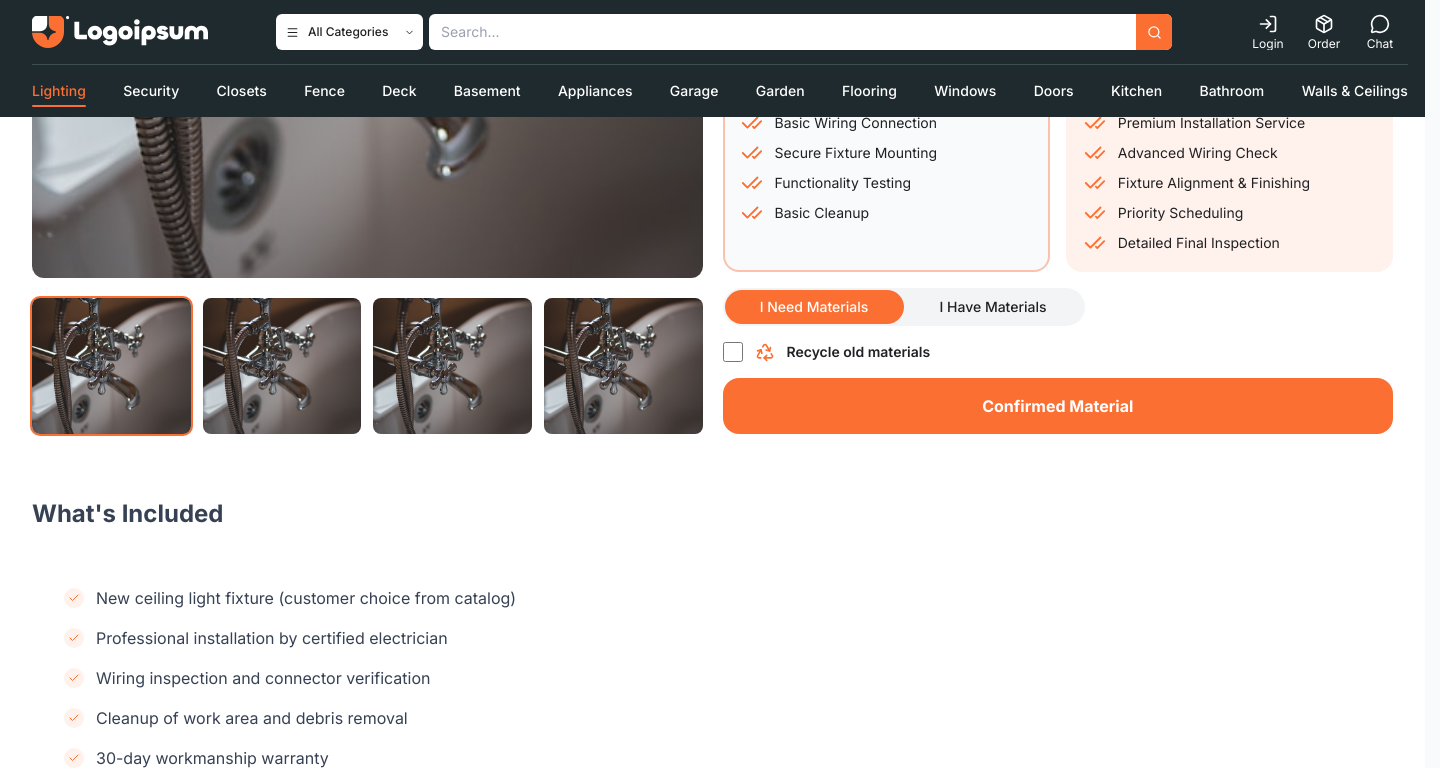
Scenario: Service details create account › opens Create Account when Manual Sign-Up is clicked after Phone / SMS
This screenshot has width=1440, height=768.
(page scrolled)
Click the button "Confirmed Material".
click(1058, 406)  # box left=722, top=378, right=1393, bottom=434
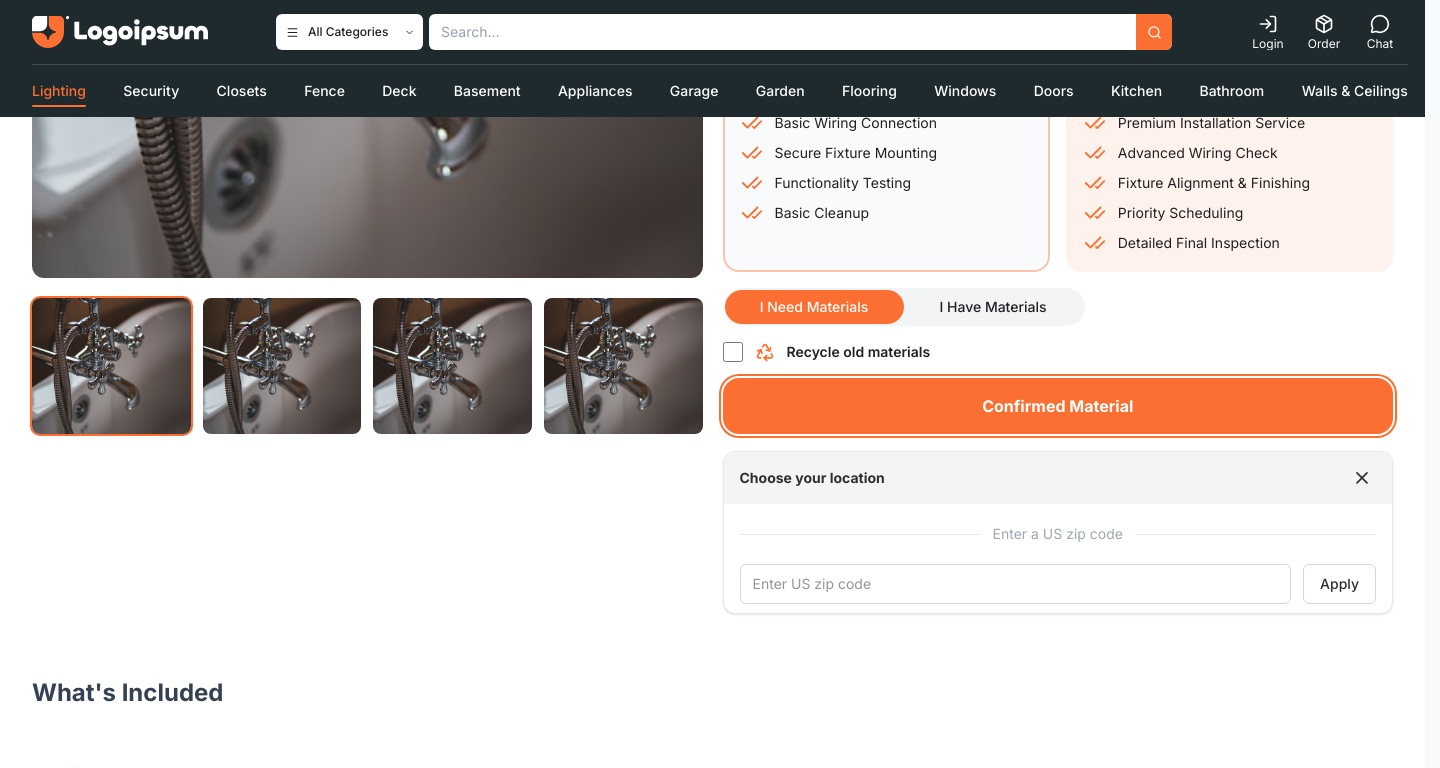
Expected: the button "Apply" is shown
Click the button "Apply".
click(1340, 584)  # box left=1303, top=564, right=1376, bottom=604
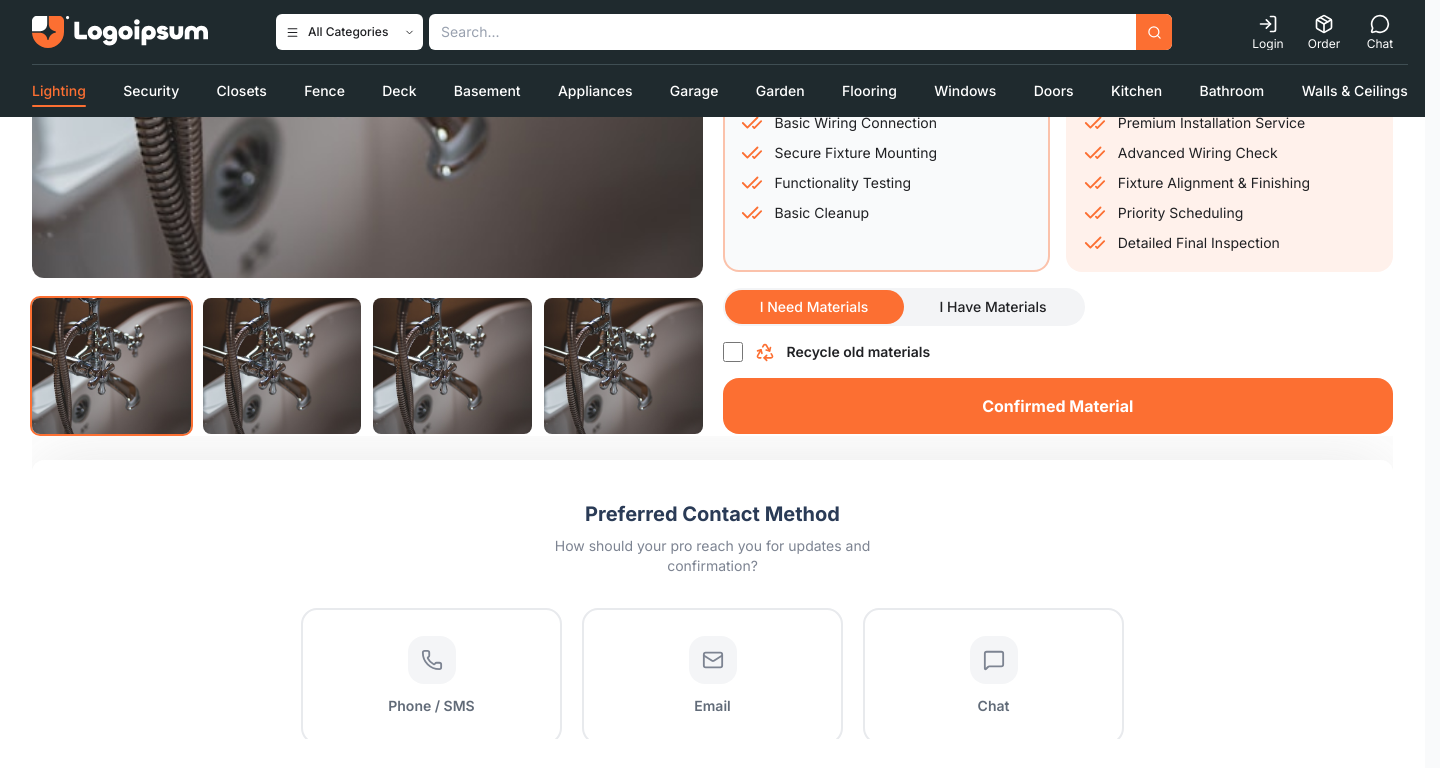
Expected: the element "Preferred Contact Method" is shown, left=32, top=460, right=1393, bottom=739
Click the radio button labelled "Phone / SMS".
click(432, 676)  # box left=301, top=608, right=562, bottom=744
(page scrolled)
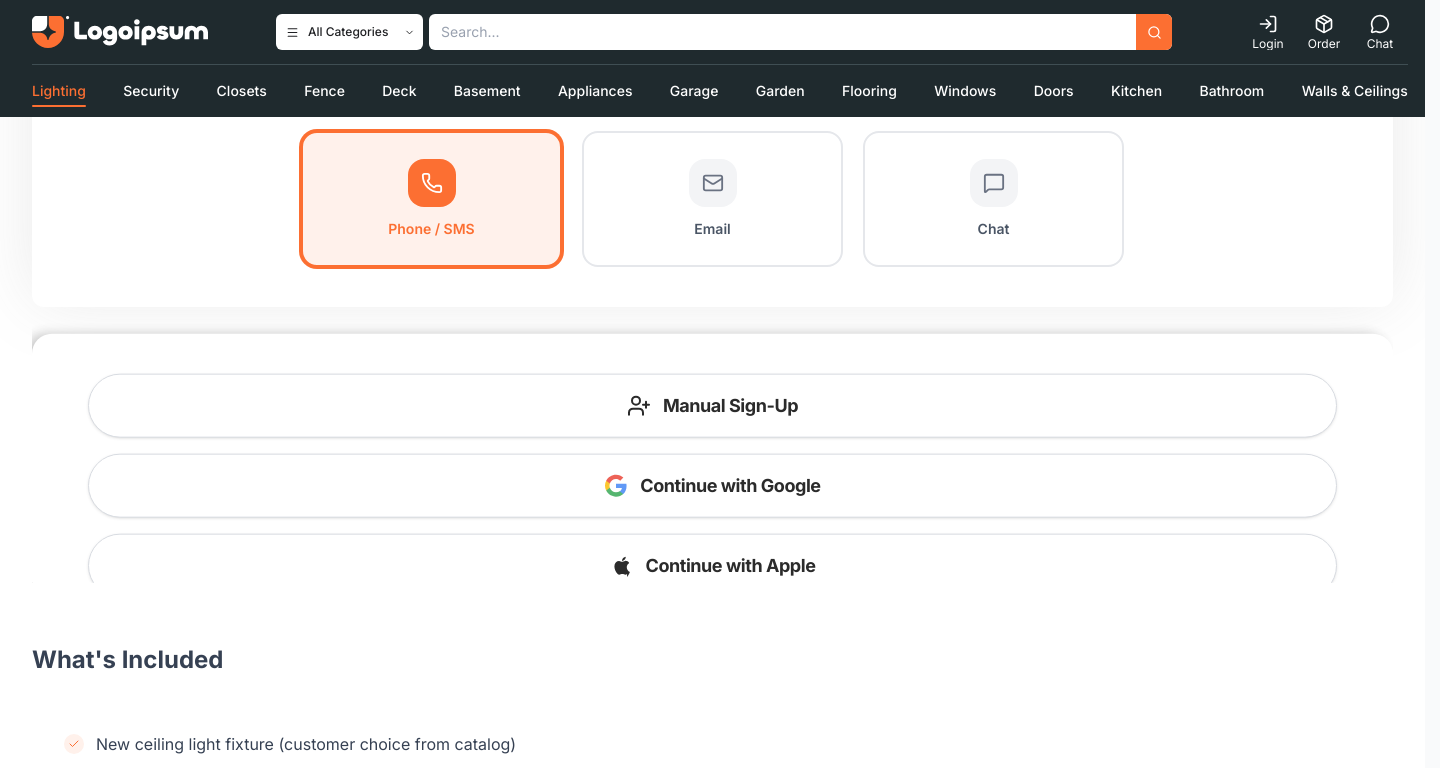
Expected: the element named "Sign-up methods" is shown, left=32, top=309, right=1393, bottom=583
Click the button "Manual Sign-Up".
click(712, 405)  # box left=88, top=373, right=1337, bottom=437
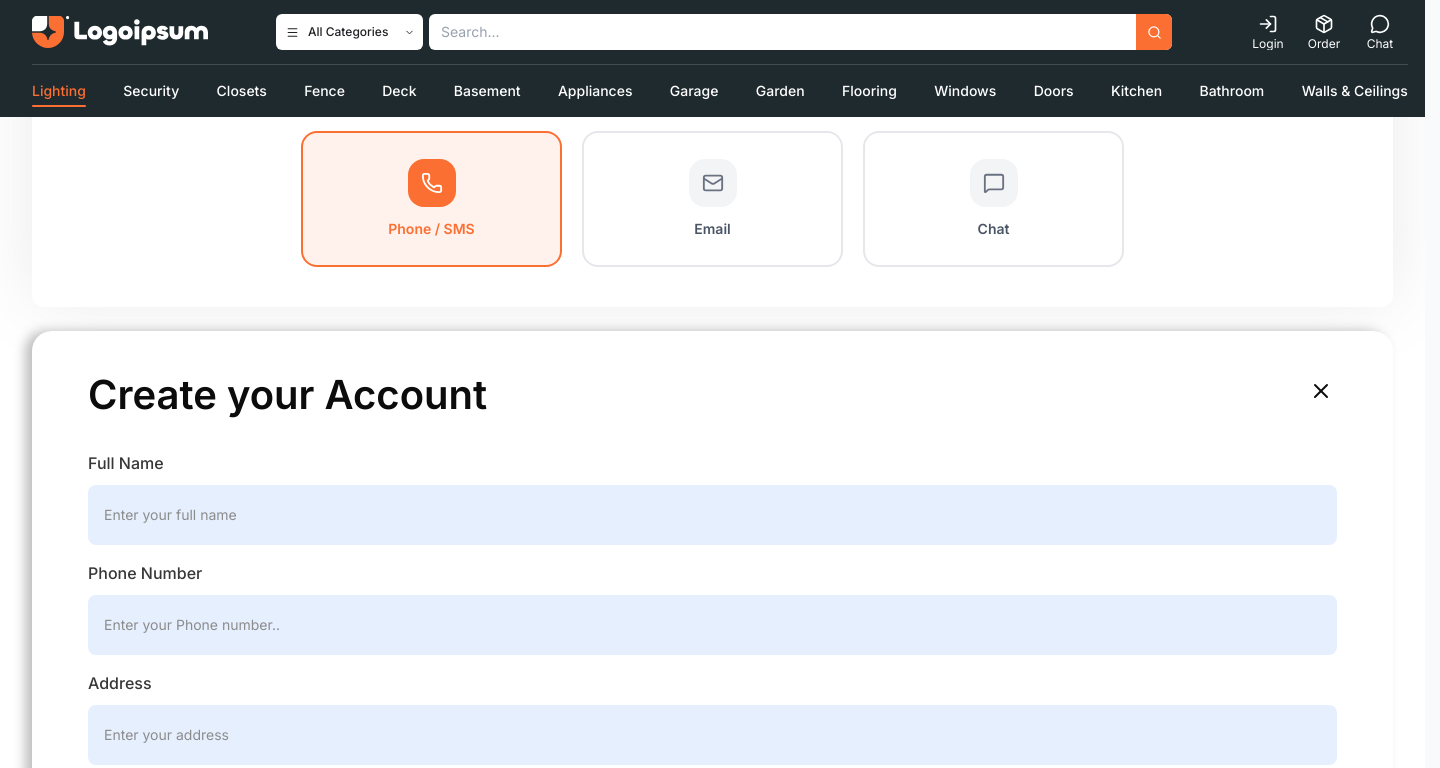
Expected: the heading "Create your Account" is shown, left=88, top=374, right=495, bottom=414
Expected: the field labelled "Full Name" is shown, left=88, top=484, right=1337, bottom=544
Expected: the field labelled "Phone Number" is shown, left=88, top=594, right=1337, bottom=654
